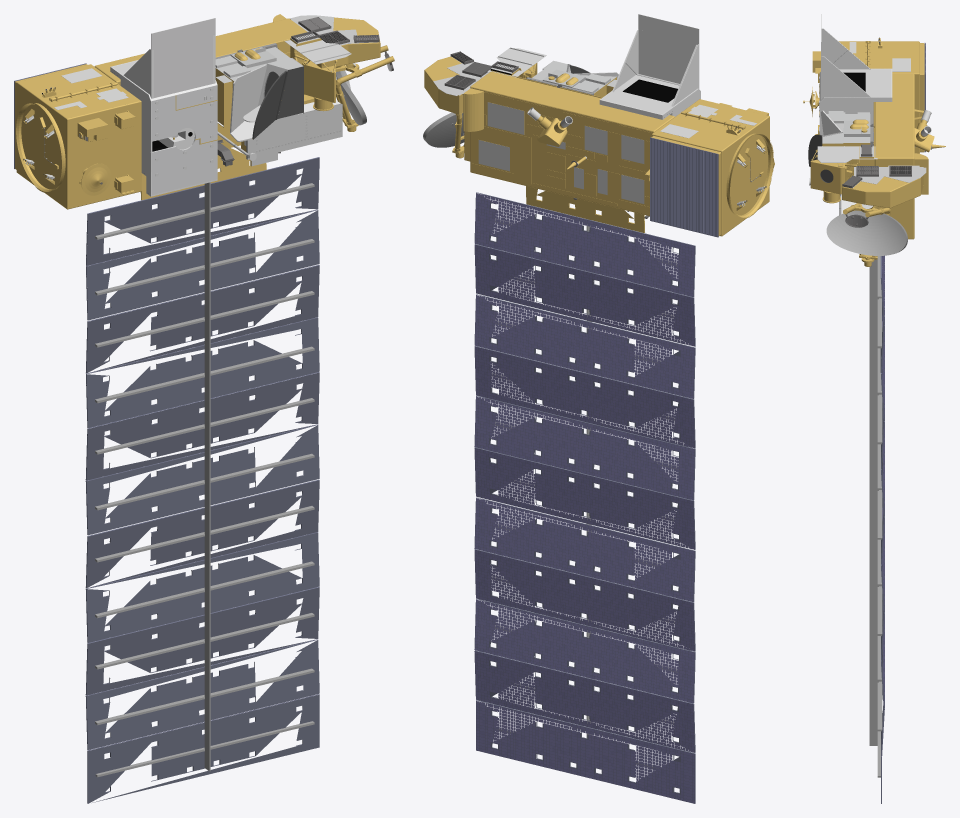
The model's file is aura-d.glb.
3 views of the same model, side by side, from view 1: azimuth 30°, elevation 25°; view 2: azimuth 150°, elevation 25°; view 3: azimuth 270°, elevation 25° (orthographic). The views are drawn at different scales.
Parts seen in each view (by area): view 1: Layer_0, Layer_1; view 2: Layer_0, Layer_1; view 3: Layer_1, Layer_0.
Boxes of the visible parts, x1,y1,x2,y2 form: Layer_0: (85, 148, 319, 803); Layer_1: (14, 14, 394, 209); Layer_0: (474, 186, 695, 803); Layer_1: (423, 14, 774, 237); Layer_1: (803, 14, 945, 266); Layer_0: (869, 132, 884, 803).
Size of the model in its own units: 8.72 by 18.64 by 3.44.
